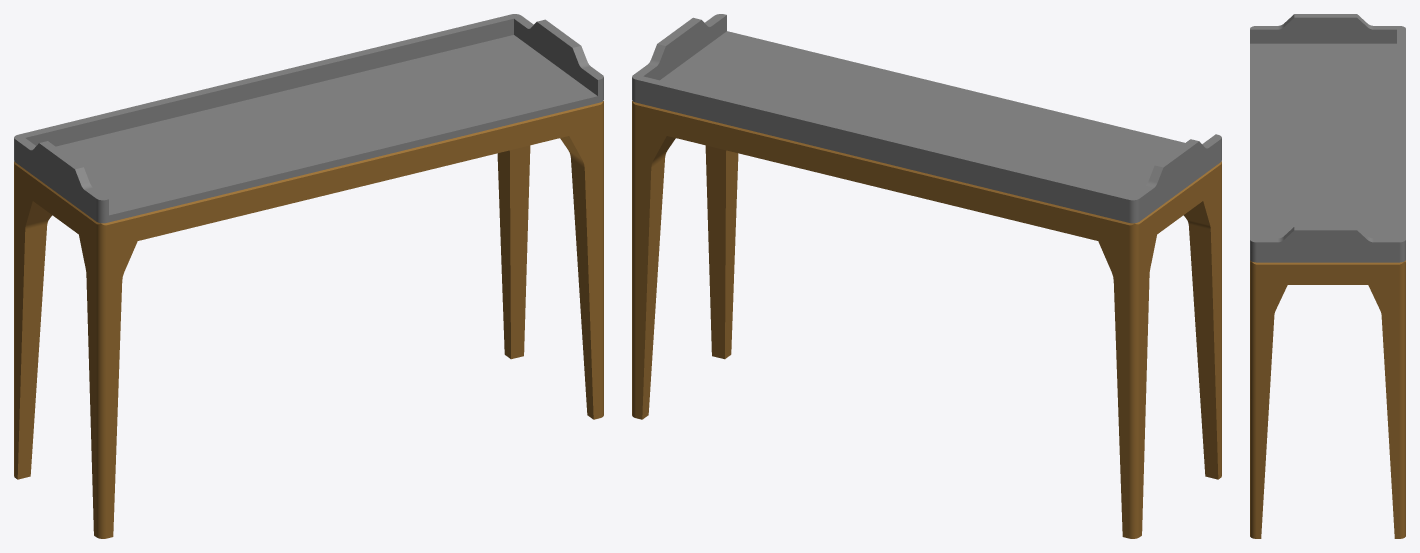
The model's file is 476_コンソールテーブル.glb.
3 renders of one model, left to right at view 1: azimuth 30°, elevation 25°; view 2: azimuth 150°, elevation 25°; view 3: azimuth 270°, elevation 25°, orthographic. The views are drawn at different scales.
Parts seen in each view (by area): view 1: body; view 2: body; view 3: body.
Boxes of the visible parts, x1,y1,x2,y2 form: body: (14, 14, 603, 538); body: (632, 14, 1221, 538); body: (1250, 14, 1405, 538).
Size of the model in its own units: 1.15 by 0.7645 by 0.35.
